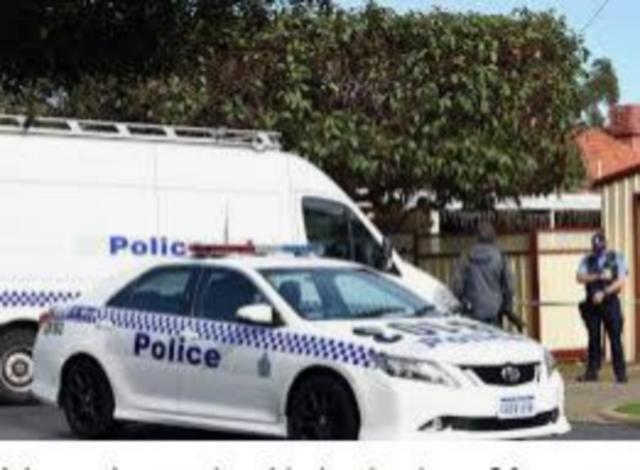police: (29, 243, 571, 441)
